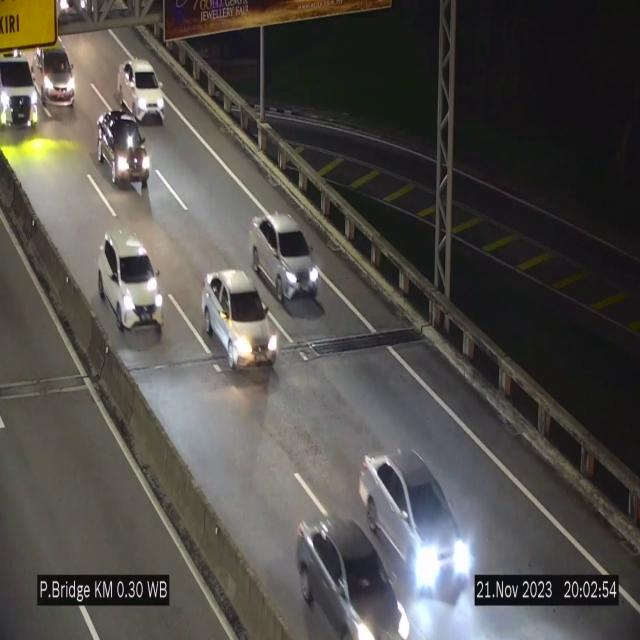Car: (357, 444, 477, 596), (202, 270, 278, 368), (250, 213, 320, 311), (98, 231, 162, 332), (94, 110, 153, 195), (0, 48, 39, 134), (32, 42, 76, 112), (118, 58, 165, 122)
